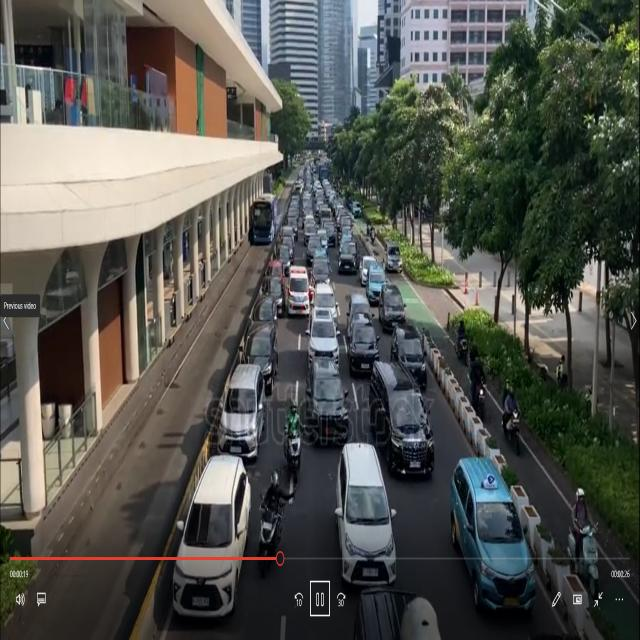Ambulance: (286, 260, 310, 327)
